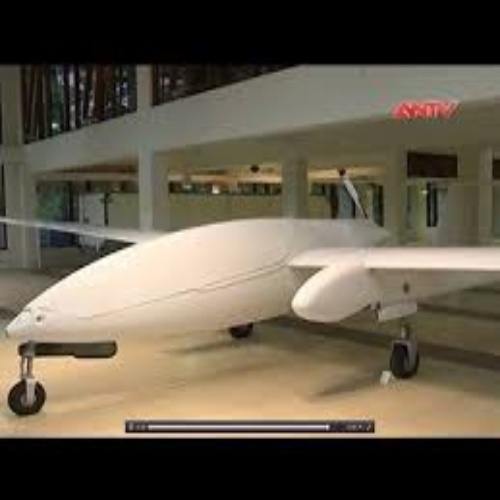uav: (2, 208, 500, 417)
